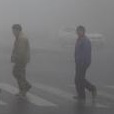person: (73, 25, 97, 100), (10, 23, 34, 97)
